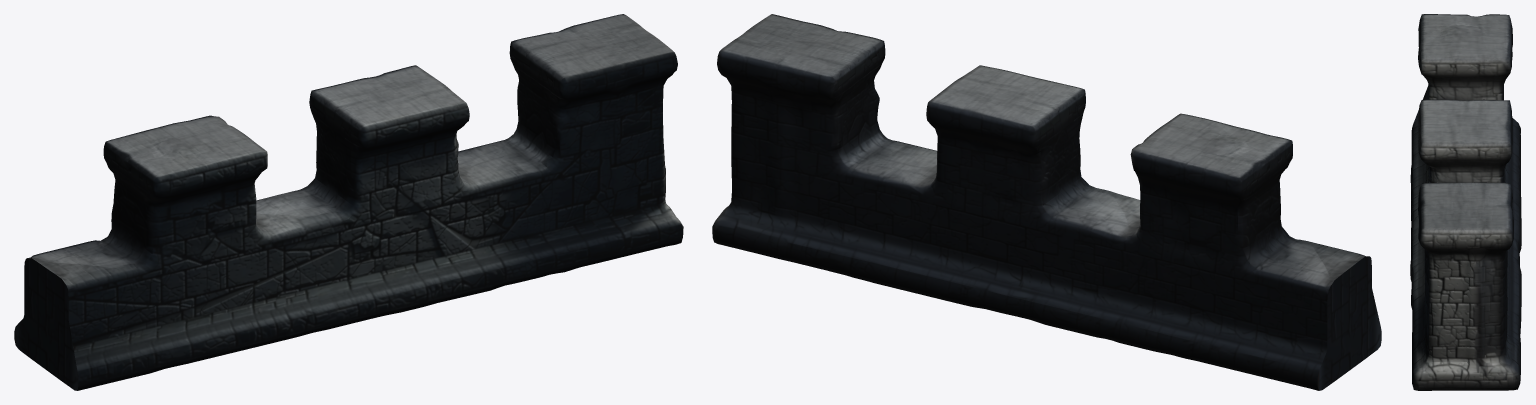
File: wall2.fbx
The picture shows the model from 3 angles, left to right: view 1: azimuth 30°, elevation 25°; view 2: azimuth 150°, elevation 25°; view 3: azimuth 270°, elevation 25°; orthographic projection. The views are drawn at different scales.
Parts seen in each view (by area): view 1: Untitled; view 2: Untitled; view 3: Untitled.
Part boxes in pixels (x1=…): Untitled: x1=14, y1=14, x2=683, y2=390; Untitled: x1=712, y1=14, x2=1381, y2=390; Untitled: x1=1410, y1=14, x2=1521, y2=390.
Size of the model in its own units: 82.32 by 25.02 by 15.32.
1 material, 1 textured.
